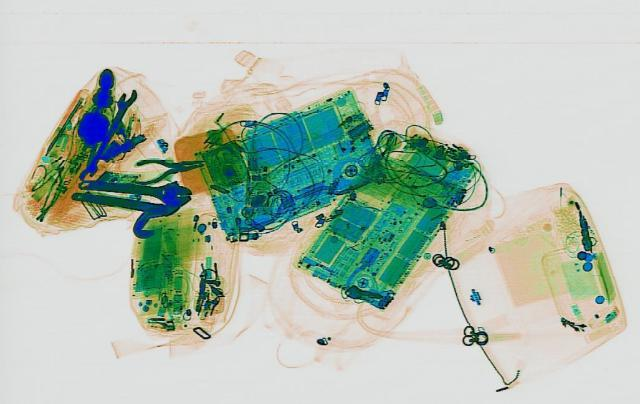Pliers: (125, 151, 212, 184)
Wrench: (73, 85, 141, 180), (74, 170, 198, 208)
